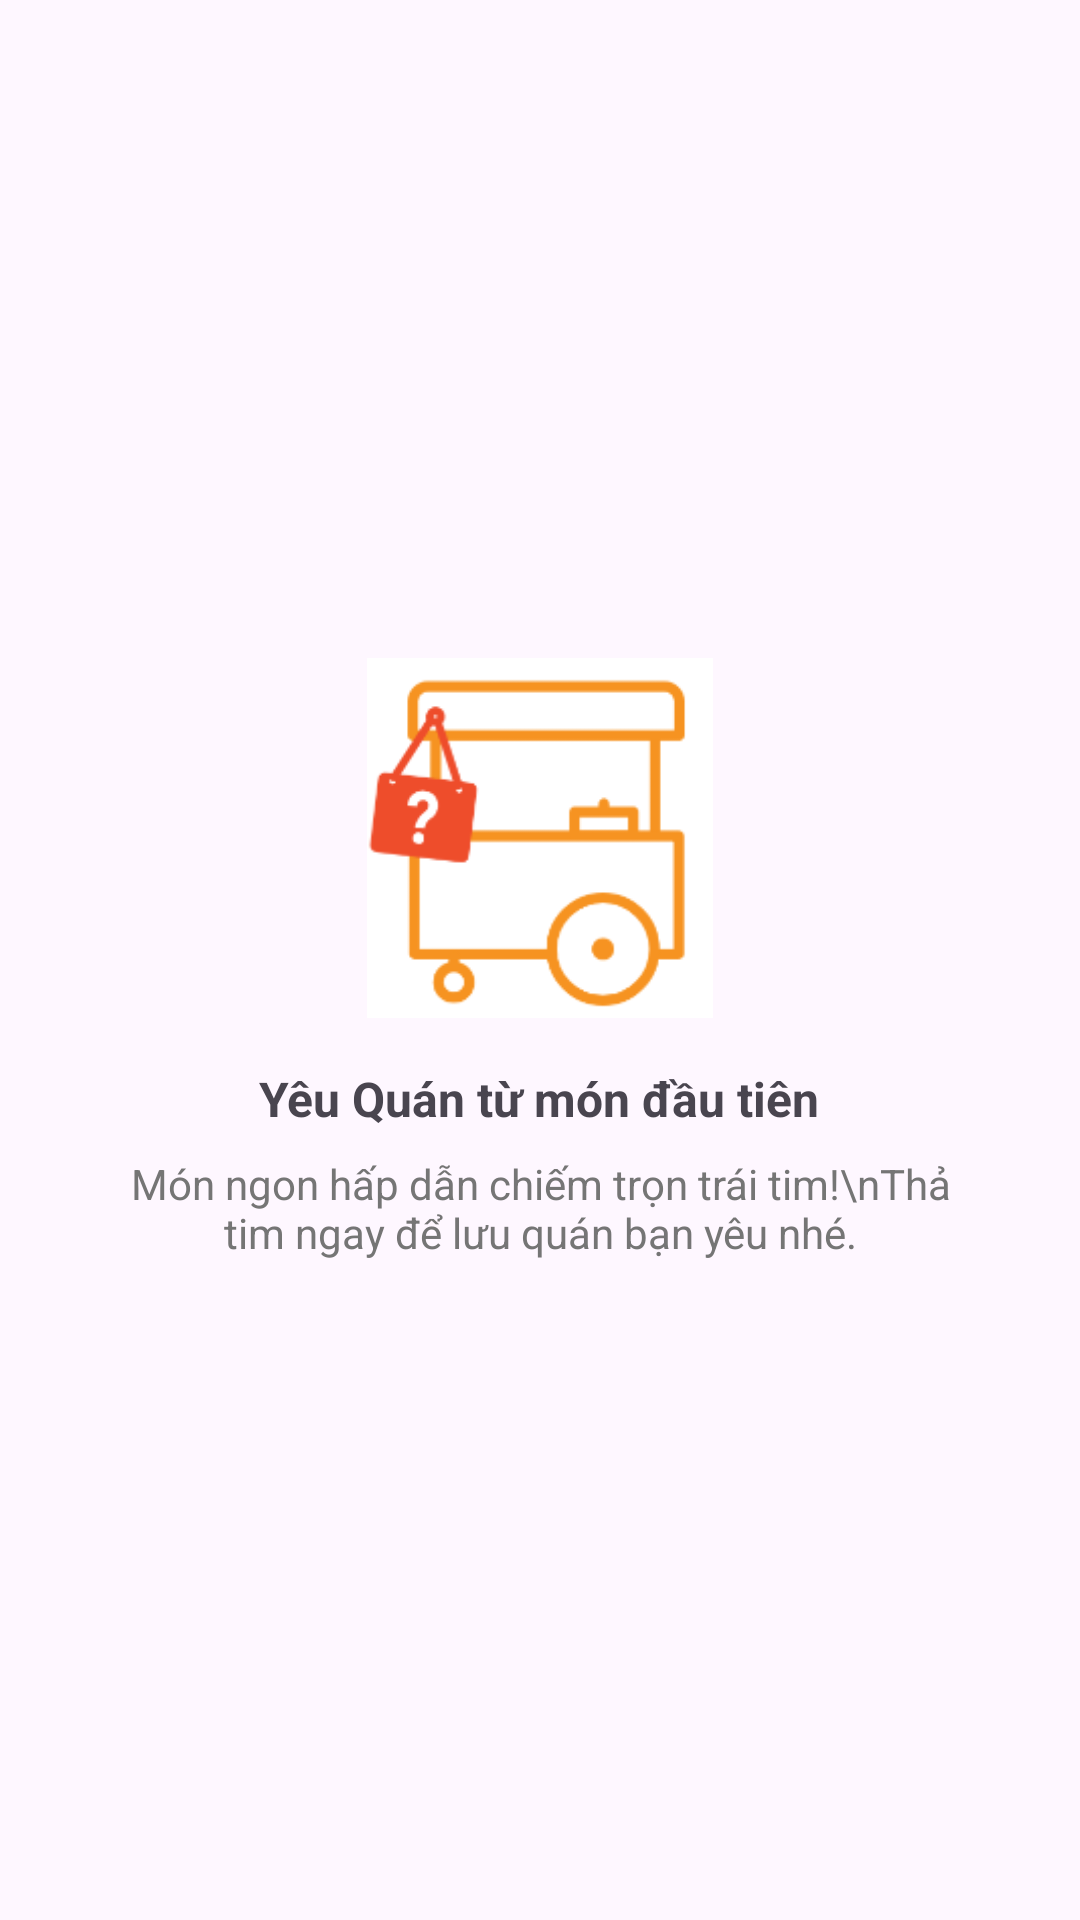

Named icons in this screenshot (1080x1920) and their bounding boxes, Rect(x1, y1, x2, y2):
empty cart: Rect(369, 680, 685, 1007)
